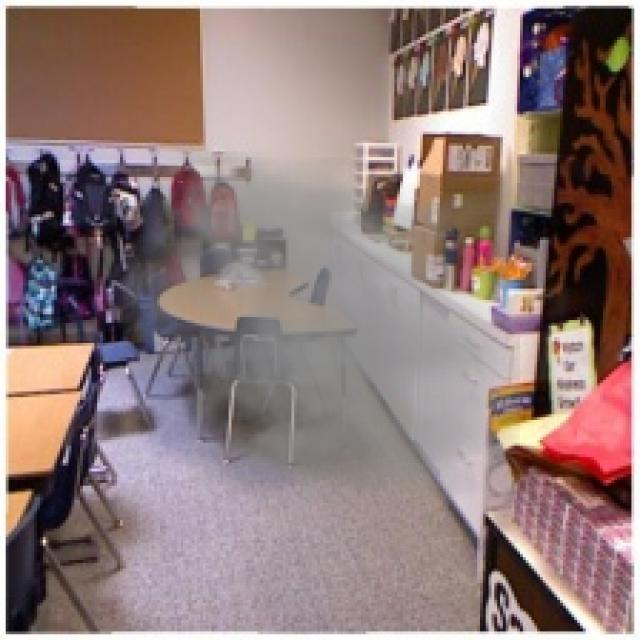smoke: (94, 151, 520, 500)
